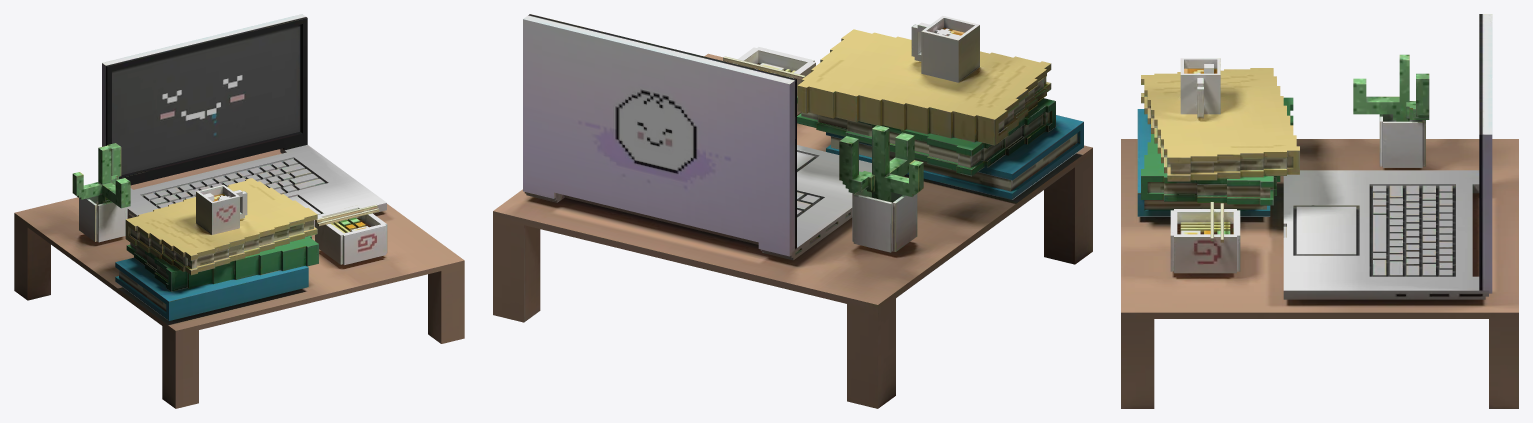
Rendered from computer.glb.
3 renders of one model, left to right at view 1: azimuth 30°, elevation 25°; view 2: azimuth 150°, elevation 25°; view 3: azimuth 270°, elevation 25°, orthographic. The views are drawn at different scales.
Parts seen in each view (by area): view 1: ObjObject.002; view 2: ObjObject.002; view 3: ObjObject.002.
Boxes of the visible parts, box(x1,y1,x2,y2) form: ObjObject.002: box(14, 14, 464, 408); ObjObject.002: box(493, 14, 1092, 408); ObjObject.002: box(1121, 14, 1518, 408).
Size of what is drawn, in the model's own units: 12.4 by 8.9 by 12.
1 material, 1 textured.
